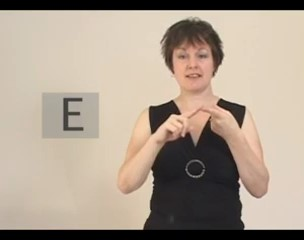E: (151, 100, 242, 146)
